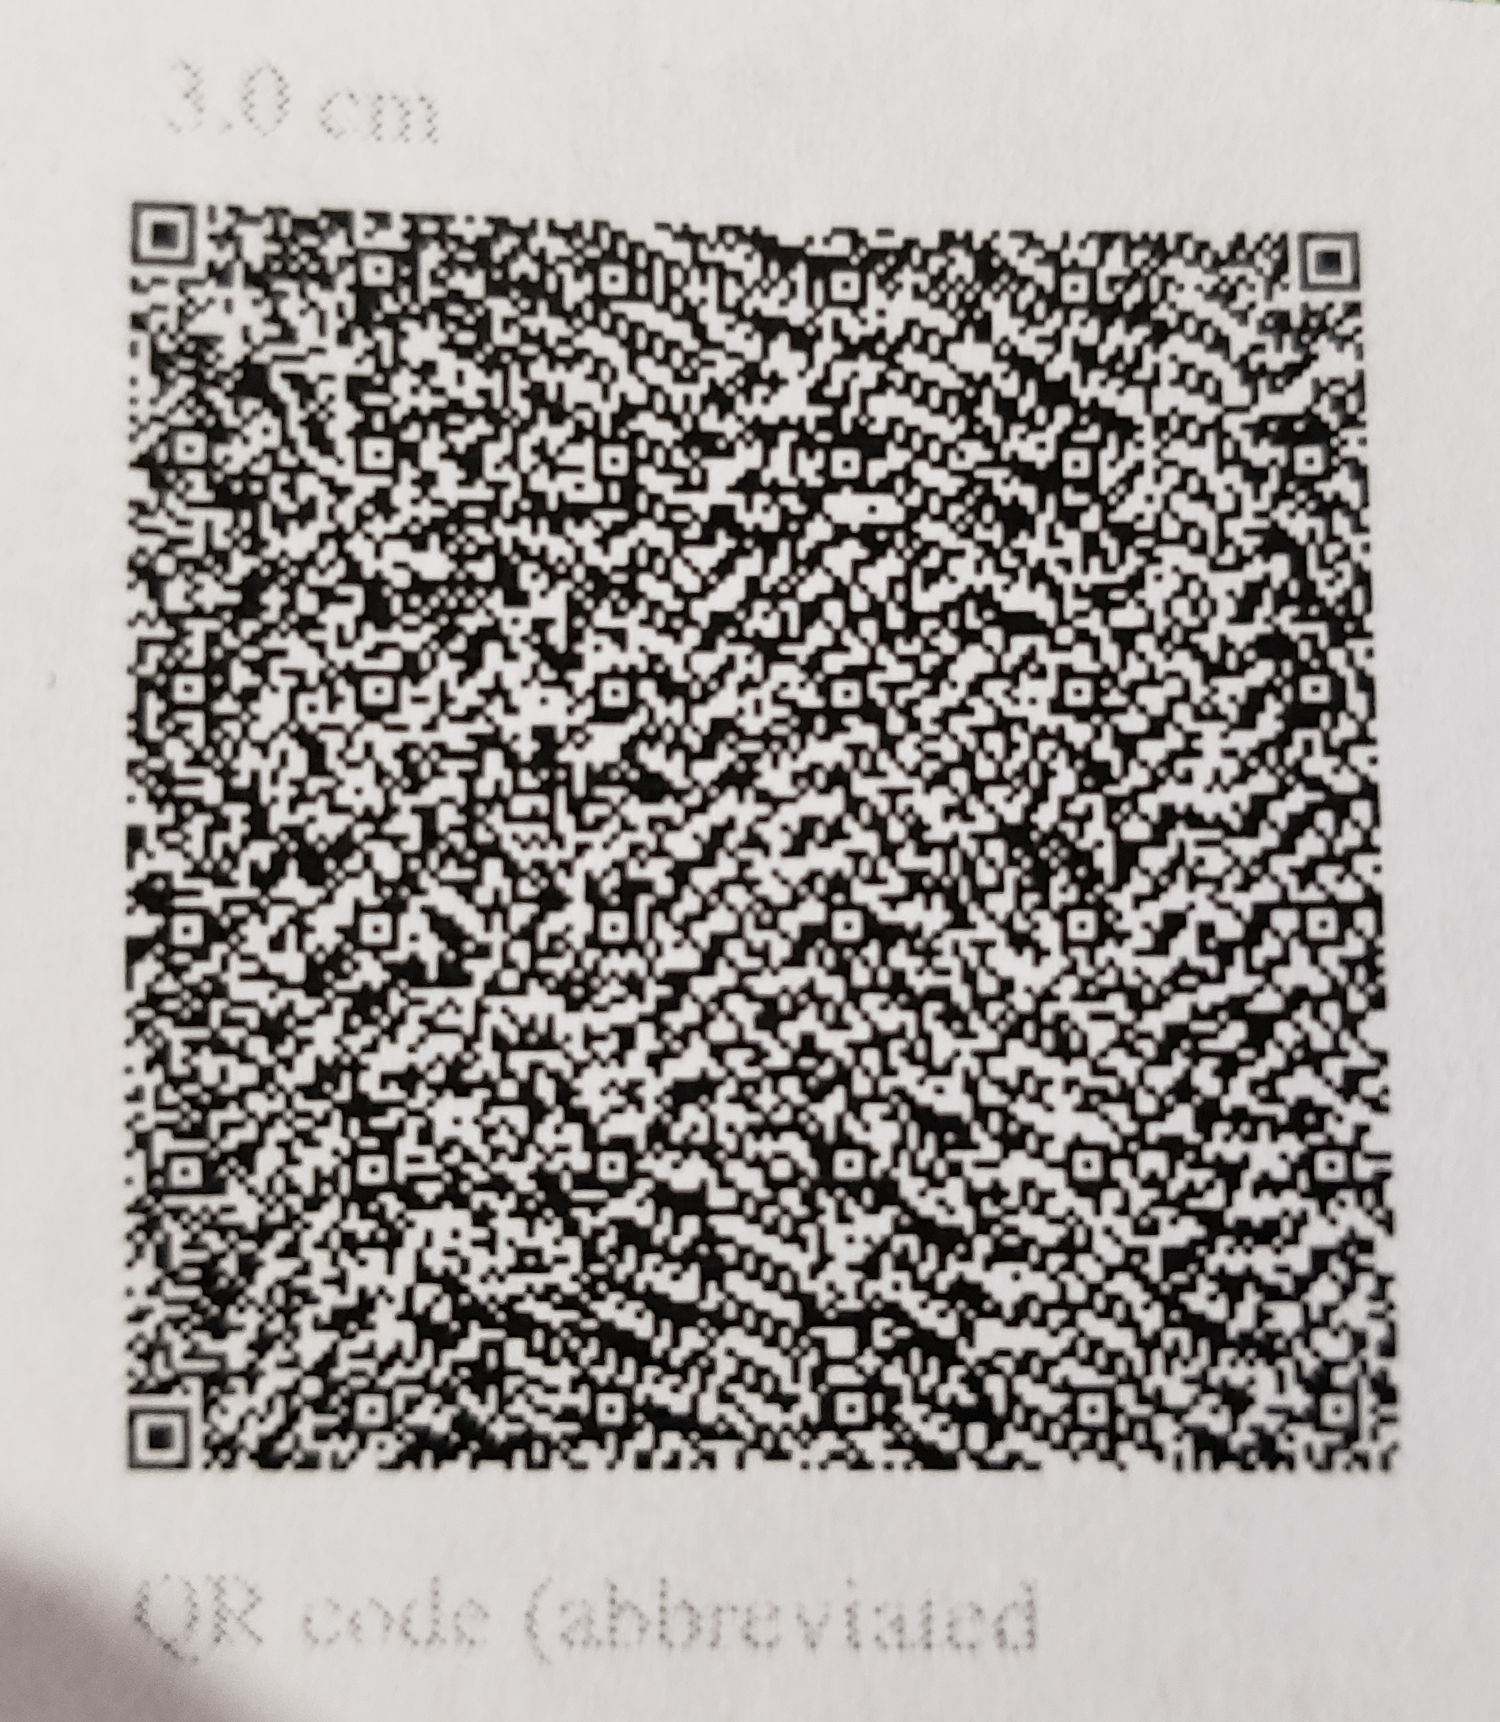QR_CODE: (78, 111, 1438, 1527)
